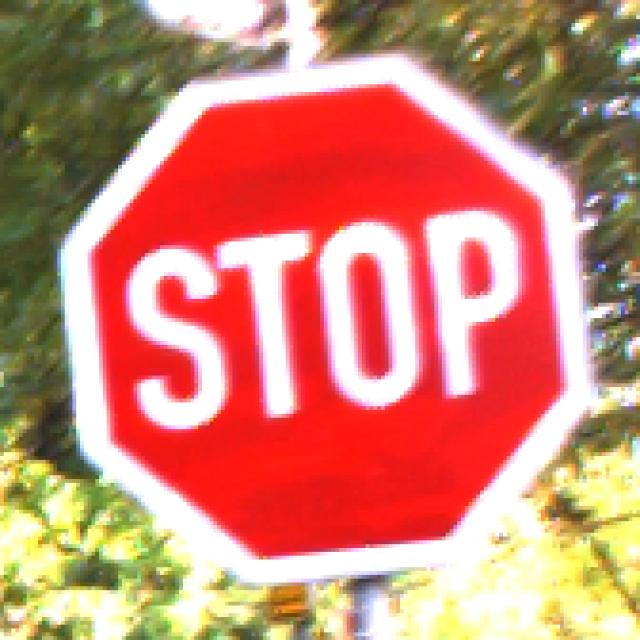STOP: (58, 55, 588, 587)
